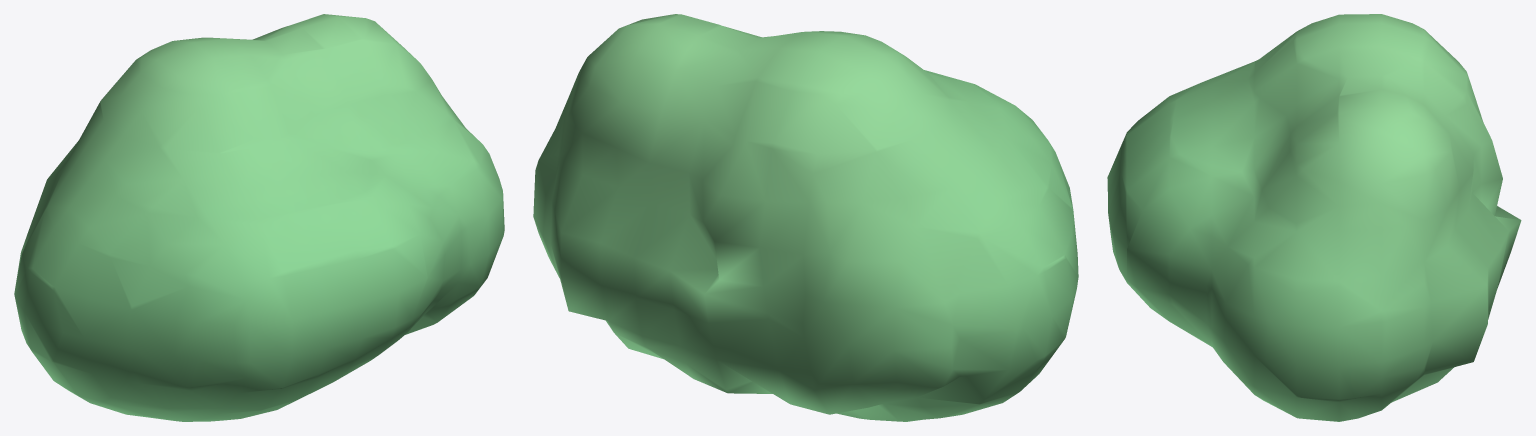
File: buisson.fbx
3 views of the same model, side by side, from view 1: azimuth 30°, elevation 25°; view 2: azimuth 150°, elevation 25°; view 3: azimuth 270°, elevation 25° (orthographic). The views are drawn at different scales.
Parts seen in each view (by area): view 1: buisson; view 2: buisson; view 3: buisson.
Boxes of the visible parts, box(x1,y1,x2,y2) form: buisson: box(14, 14, 504, 421); buisson: box(533, 14, 1078, 421); buisson: box(1107, 14, 1521, 421).
Bounding box in the file's own units: 1.34 × 0.9428 × 1.04.
